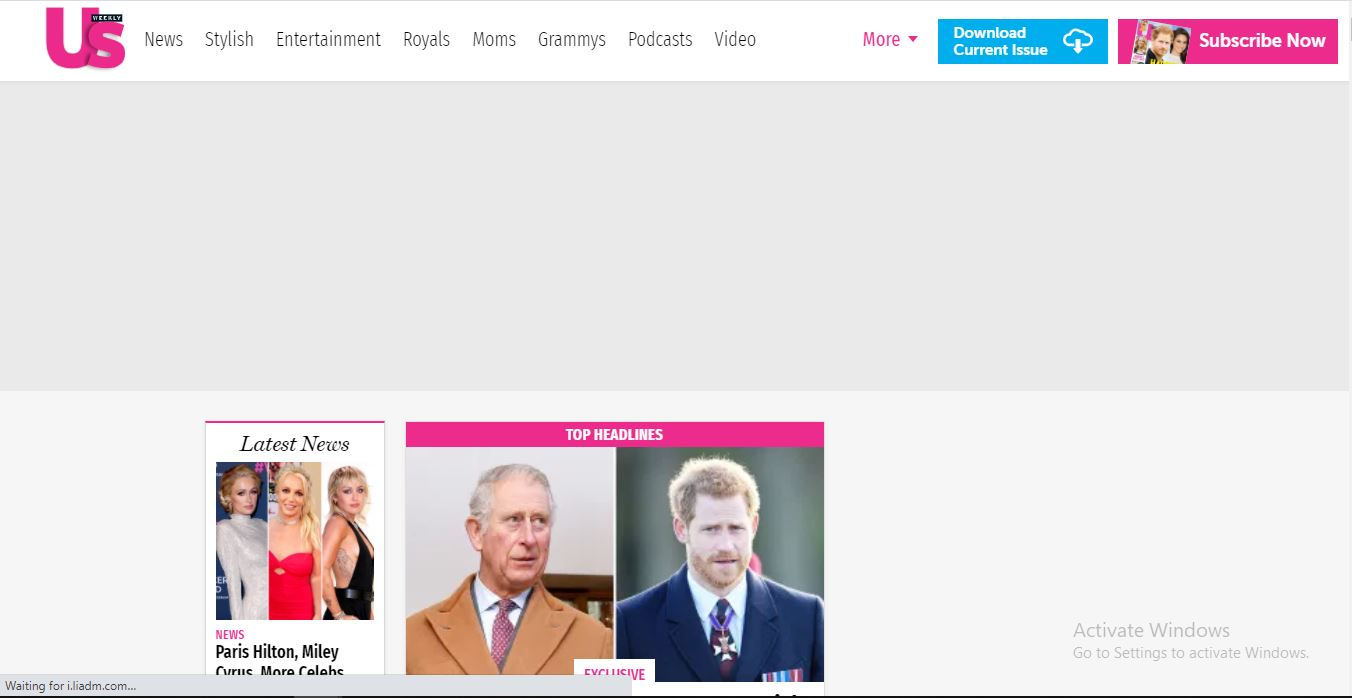Button: (1117, 16, 1346, 64), (933, 14, 1111, 68)
Menu Bar: (136, 4, 778, 68)
Side Bar: (203, 413, 391, 698)
